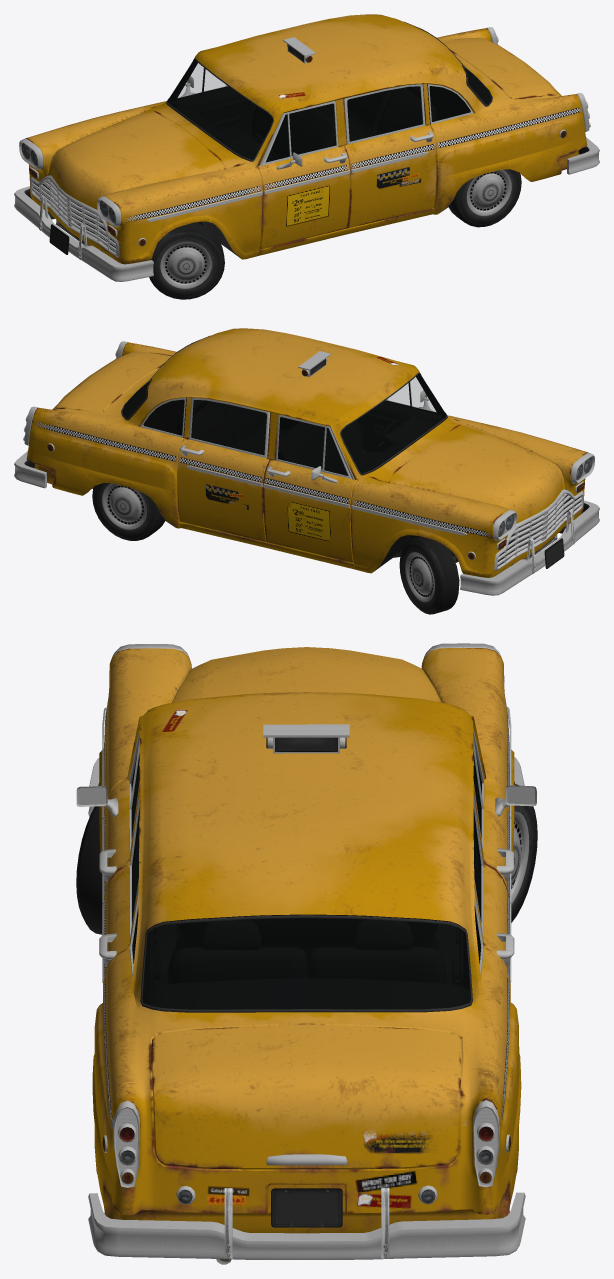
3 views of the same model, one above another, from view 1: azimuth 30°, elevation 25°; view 2: azimuth 150°, elevation 25°; view 3: azimuth 270°, elevation 25° (orthographic). The views are drawn at different scales.
Visible parts, largest first — view 1: Body_Taxi_old_bodycolour_0, Fenders_Front_Taxi_old_bodycolour_0, Hood_Taxi_old_bodycolour_0, Door_RL_Taxi_old_bodycolour_0, Door_FL_Taxi_old_bodycolour_0, Seats_interior void_0, Wheel_FL_RIMSTOCK_05_0, Trunk_door_Taxi_old_bodycolour_0, Bumper_front_UCB_BOTTOM_0, Wheel_RL_RIMSTOCK_05_0, Door_inner_FL_UCB_BOTTOM_0 (×2), Grill_UCB_BOTTOM_0 (+9 smaller); view 2: Body_Taxi_old_bodycolour_0, Fenders_Front_Taxi_old_bodycolour_0, Hood_Taxi_old_bodycolour_0, Door_RR_Taxi_old_bodycolour_0, Door_FR_Taxi_old_bodycolour_0, Seats_interior void_0, Wheel_FR_RIMSTOCK_05_0, Trunk_door_Taxi_old_bodycolour_0, Bumper_front_UCB_BOTTOM_0, Wheel_RR_RIMSTOCK_05_0, Grill_UCB_BOTTOM_0, Doorcard_FL_interior void_0 (+10 smaller); view 3: Body_Taxi_old_bodycolour_0, Trunk_door_Taxi_old_bodycolour_0, Seats_interior void_0, Bumper_rear_UCB_BOTTOM_0, Fenders_Front_Taxi_old_bodycolour_0, Interior_interior void_0, Hood_Taxi_old_bodycolour_0, Taillights_UCB_BOTTOM_0, Windows_trim_UCB_BOTTOM_0, Numberplate_rear_UCB_BOTTOM_0, Wheel_FL_RIMSTOCK_05_0, Taxi_rooflight_UCB_BOTTOM_0 (+13 smaller).
Boxes of the visible parts, x1,y1,x2,y2 form: Body_Taxi_old_bodycolour_0: (147, 14, 587, 255); Fenders_Front_Taxi_old_bodycolour_0: (25, 101, 263, 264); Hood_Taxi_old_bodycolour_0: (48, 110, 225, 209); Door_RL_Taxi_old_bodycolour_0: (344, 125, 436, 228); Door_FL_Taxi_old_bodycolour_0: (256, 145, 350, 249); Seats_interior void_0: (248, 86, 436, 162); Wheel_FL_RIMSTOCK_05_0: (149, 222, 224, 299); Trunk_door_Taxi_old_bodycolour_0: (441, 37, 561, 99); Bumper_front_UCB_BOTTOM_0: (14, 186, 153, 281); Wheel_RL_RIMSTOCK_05_0: (448, 169, 521, 227); Door_inner_FL_UCB_BOTTOM_0 (×2): (259, 84, 433, 194); Grill_UCB_BOTTOM_0: (30, 175, 119, 257); Body_Taxi_old_bodycolour_0: (26, 328, 466, 569); Fenders_Front_Taxi_old_bodycolour_0: (350, 415, 588, 577); Hood_Taxi_old_bodycolour_0: (387, 424, 565, 523); Door_RR_Taxi_old_bodycolour_0: (177, 438, 269, 541); Door_FR_Taxi_old_bodycolour_0: (263, 459, 357, 562); Seats_interior void_0: (177, 400, 381, 475); Wheel_FR_RIMSTOCK_05_0: (399, 536, 459, 614); Trunk_door_Taxi_old_bodycolour_0: (52, 352, 172, 412); Bumper_front_UCB_BOTTOM_0: (460, 500, 599, 595); Wheel_RR_RIMSTOCK_05_0: (92, 482, 165, 540); Grill_UCB_BOTTOM_0: (494, 489, 583, 571); Doorcard_FL_interior void_0: (359, 375, 441, 452); Body_Taxi_old_bodycolour_0: (92, 692, 521, 1233); Trunk_door_Taxi_old_bodycolour_0: (151, 1025, 461, 1169); Seats_interior void_0: (167, 914, 446, 983); Bumper_rear_UCB_BOTTOM_0: (88, 1187, 525, 1259); Fenders_Front_Taxi_old_bodycolour_0: (99, 647, 514, 873); Interior_interior void_0: (132, 751, 481, 1009); Hood_Taxi_old_bodycolour_0: (172, 647, 441, 702); Taillights_UCB_BOTTOM_0: (113, 1100, 499, 1187); Windows_trim_UCB_BOTTOM_0: (129, 765, 483, 1012); Numberplate_rear_UCB_BOTTOM_0: (271, 1188, 342, 1227); Wheel_FL_RIMSTOCK_05_0: (76, 806, 102, 934); Taxi_rooflight_UCB_BOTTOM_0: (263, 724, 349, 753).
Size of the model in its own units: 209 by 71.6 by 84.09.
Materials: 6 (5 with a texture image).
